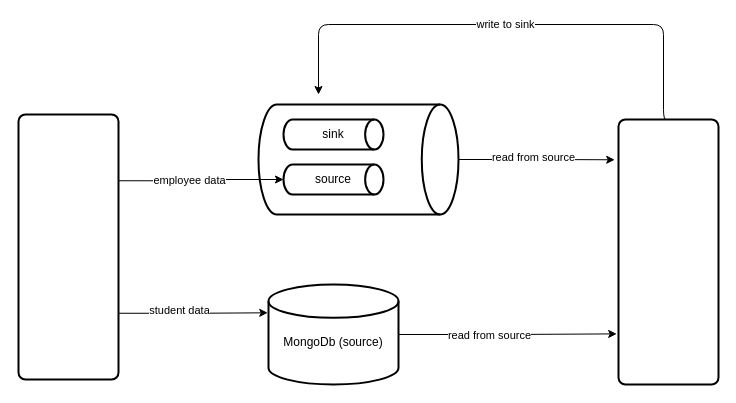
Some shapes in this 736 by 403 pixel diagram are drawn without their labels. Each missing label, with the centre of its shape:
"Apache flink" goes at (x=668, y=251).
"Client Program to populate data into the sources" goes at (x=68, y=246).
